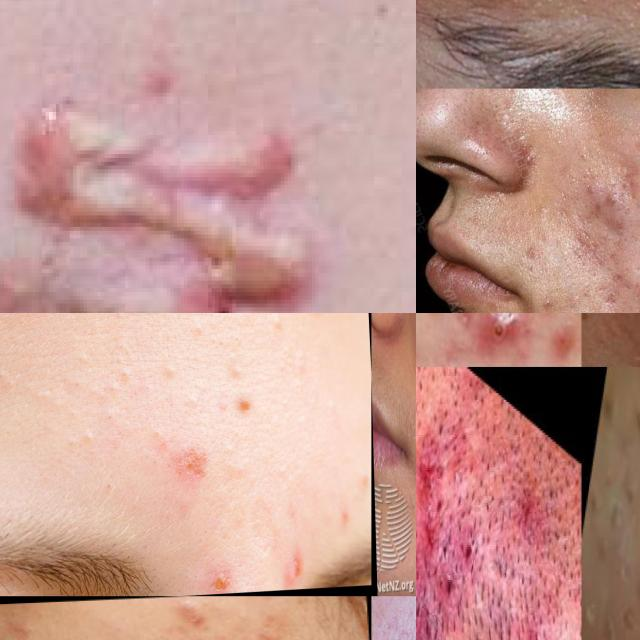comedone: (581, 367, 640, 640), (35, 420, 116, 463), (209, 433, 255, 487), (274, 538, 322, 588), (89, 366, 134, 405), (158, 484, 212, 514), (199, 566, 249, 593), (218, 353, 252, 390), (177, 449, 209, 488), (154, 358, 187, 391), (591, 184, 623, 215)
cystic: (469, 313, 529, 367)
keloid: (0, 88, 335, 313)
milium: (534, 123, 572, 164)
